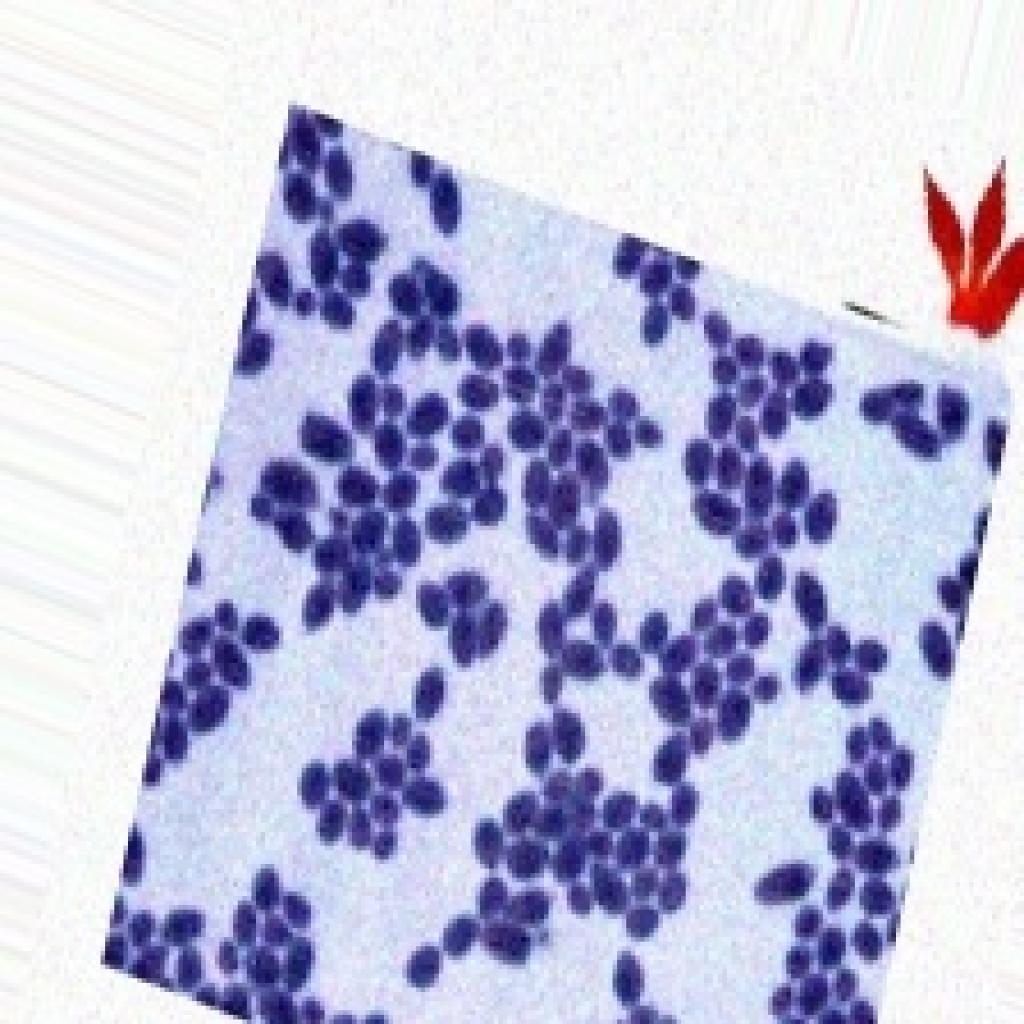Sphericalbacteria: (96, 100, 1015, 1020)
